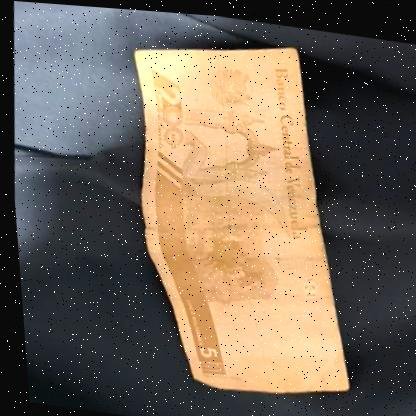five-back-vef: (108, 23, 369, 406)
